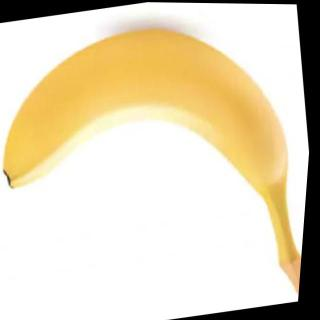banana: (0, 3, 306, 231)
